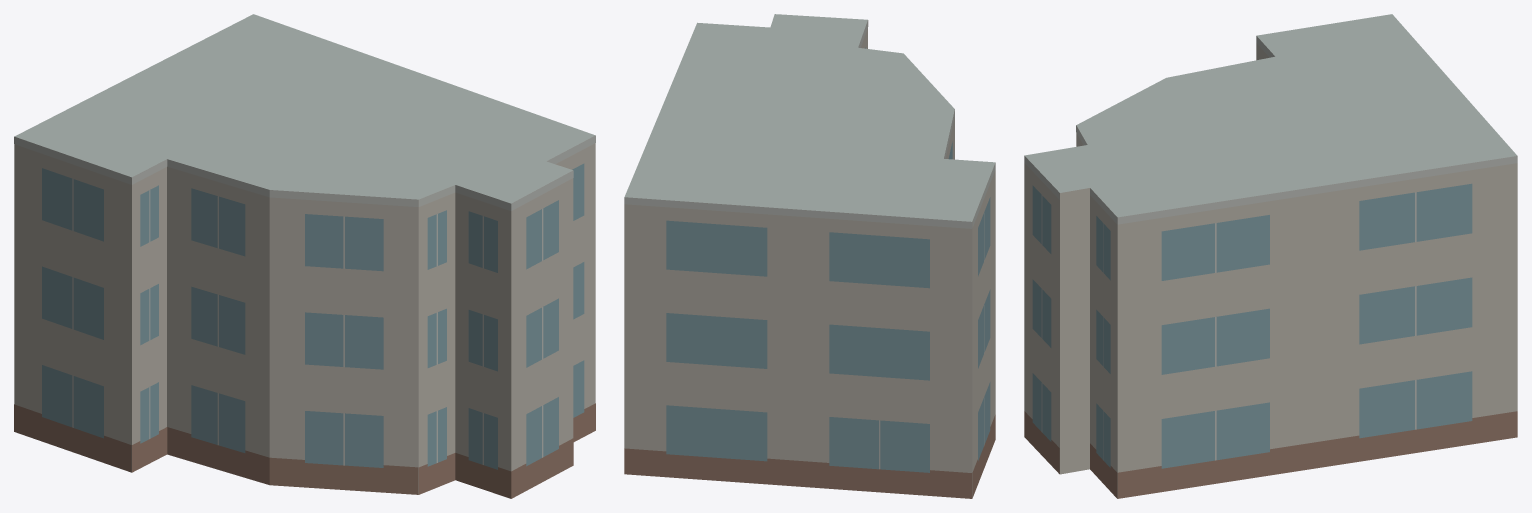
File: survey-upis-32490019.glb
3 views of the same model, side by side, from view 1: azimuth 30°, elevation 25°; view 2: azimuth 150°, elevation 25°; view 3: azimuth 270°, elevation 25° (orthographic). The views are drawn at different scales.
Visible parts, largest first — view 1: survey-upis-32490019.tmp; view 2: survey-upis-32490019.tmp; view 3: survey-upis-32490019.tmp.
Part boxes in pixels (box(x1,y1,x2,y2)): survey-upis-32490019.tmp: box(14, 14, 595, 498); survey-upis-32490019.tmp: box(624, 14, 995, 498); survey-upis-32490019.tmp: box(1024, 14, 1517, 498).
Bounding box in the file's own units: 14.77 × 9.52 × 15.13.
